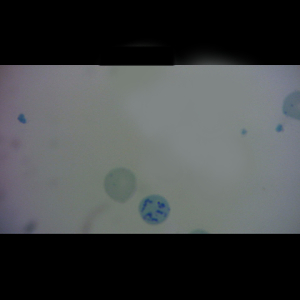aggregate reticulocyte: (137, 193, 171, 226)
punctate reticulocyte: (102, 166, 139, 205)
